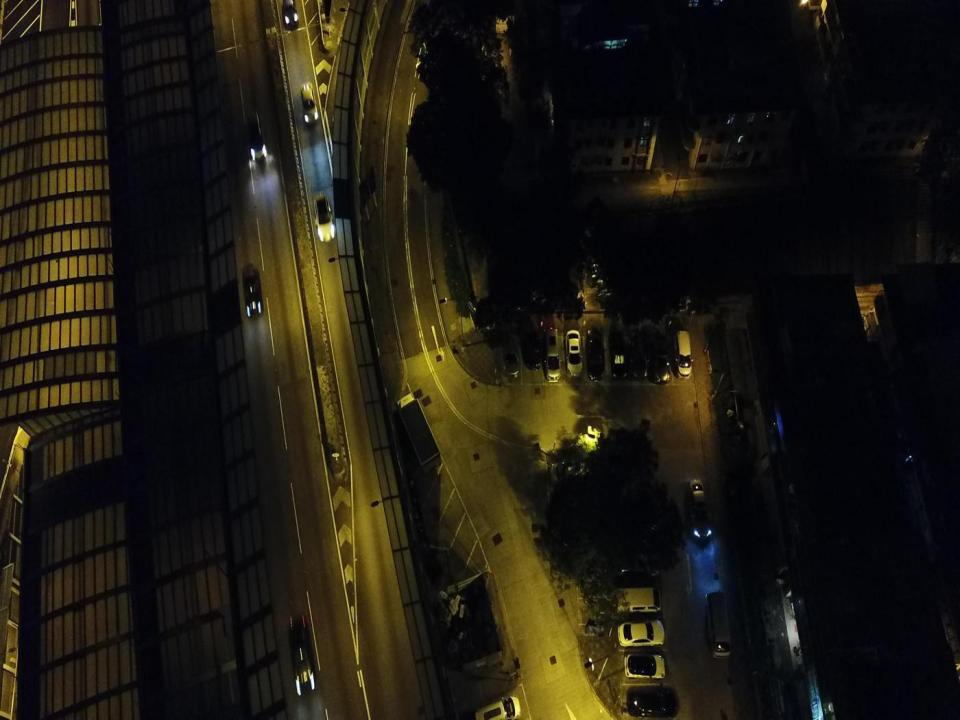bus: (705, 591, 732, 659)
car: (287, 614, 317, 696), (626, 683, 678, 717), (688, 478, 714, 541), (617, 618, 666, 648), (624, 652, 666, 682), (246, 110, 268, 164), (241, 265, 263, 318), (475, 694, 521, 719), (313, 191, 335, 242), (586, 328, 606, 382), (520, 320, 541, 370), (672, 330, 693, 379), (564, 329, 584, 378), (544, 328, 562, 381), (653, 332, 671, 384), (610, 329, 628, 379), (631, 333, 649, 380), (502, 334, 520, 378), (300, 81, 318, 125), (281, 0, 299, 28)
truck: (395, 391, 442, 475)
van: (614, 584, 662, 616)
